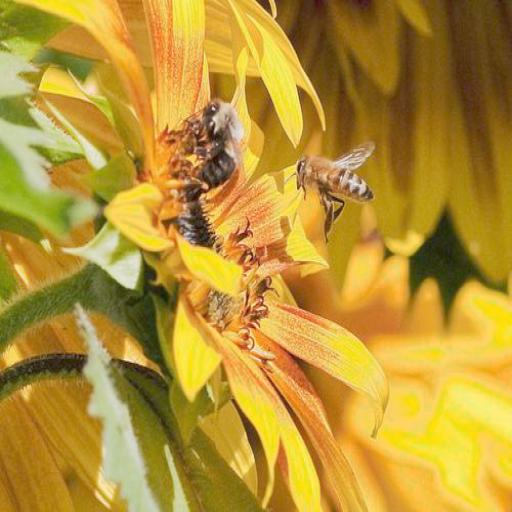sunflower: (2, 0, 512, 512)
